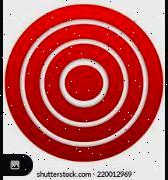target_red: (4, 3, 163, 162)
